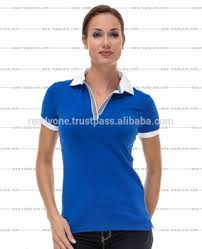S_polo shirt: (36, 66, 171, 231)
